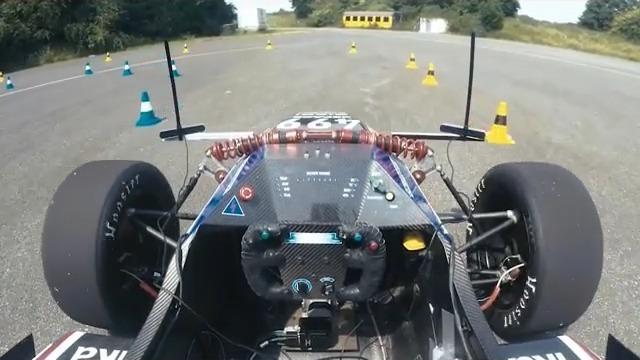blue_cone: (135, 91, 162, 127), (168, 60, 182, 78), (122, 60, 134, 77), (83, 61, 93, 75), (5, 76, 15, 89)
yellow_cone: (483, 101, 516, 144), (421, 62, 439, 86), (405, 53, 420, 69)
